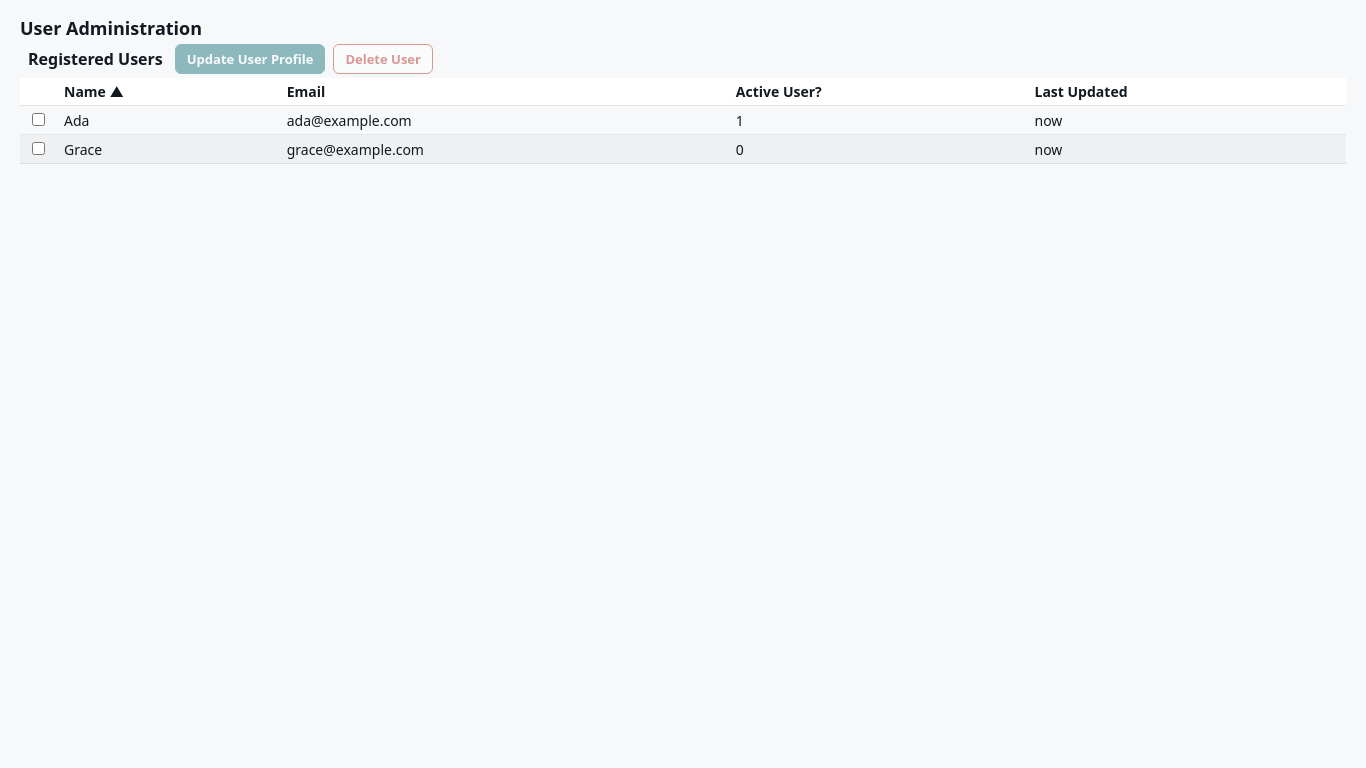
Scenario: the edit dialog › draws the roles table inside the dialog
Expected: the text "ada@example.com" is shown, left=279, top=106, right=728, bottom=134
Click the checkbox named "Select row 1": (38, 120) left=32, top=113, right=45, bottom=126
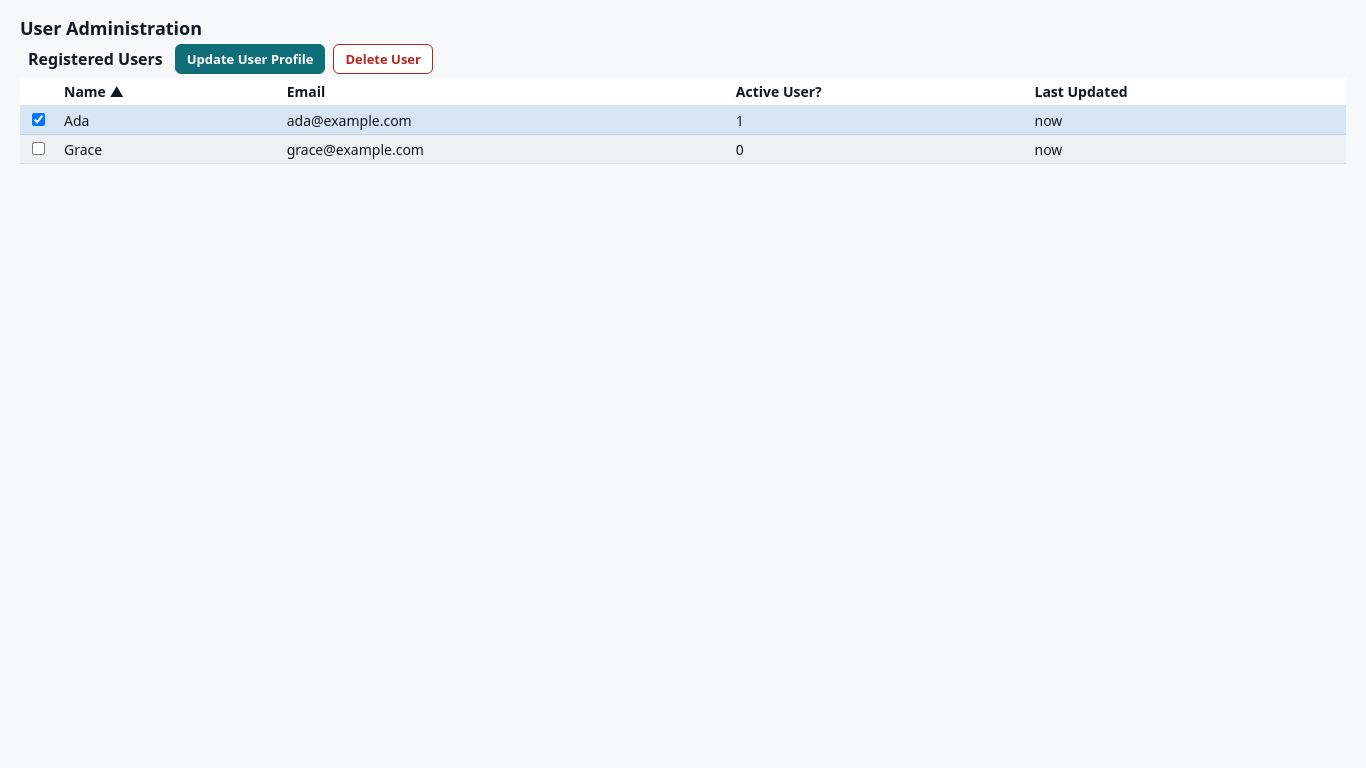
Now the checkbox named "Select row 1" is checked, box left=32, top=113, right=45, bottom=126
Now the button "Update User Profile" is enabled
Click the button "Update User Profile": (250, 59) left=175, top=44, right=325, bottom=74
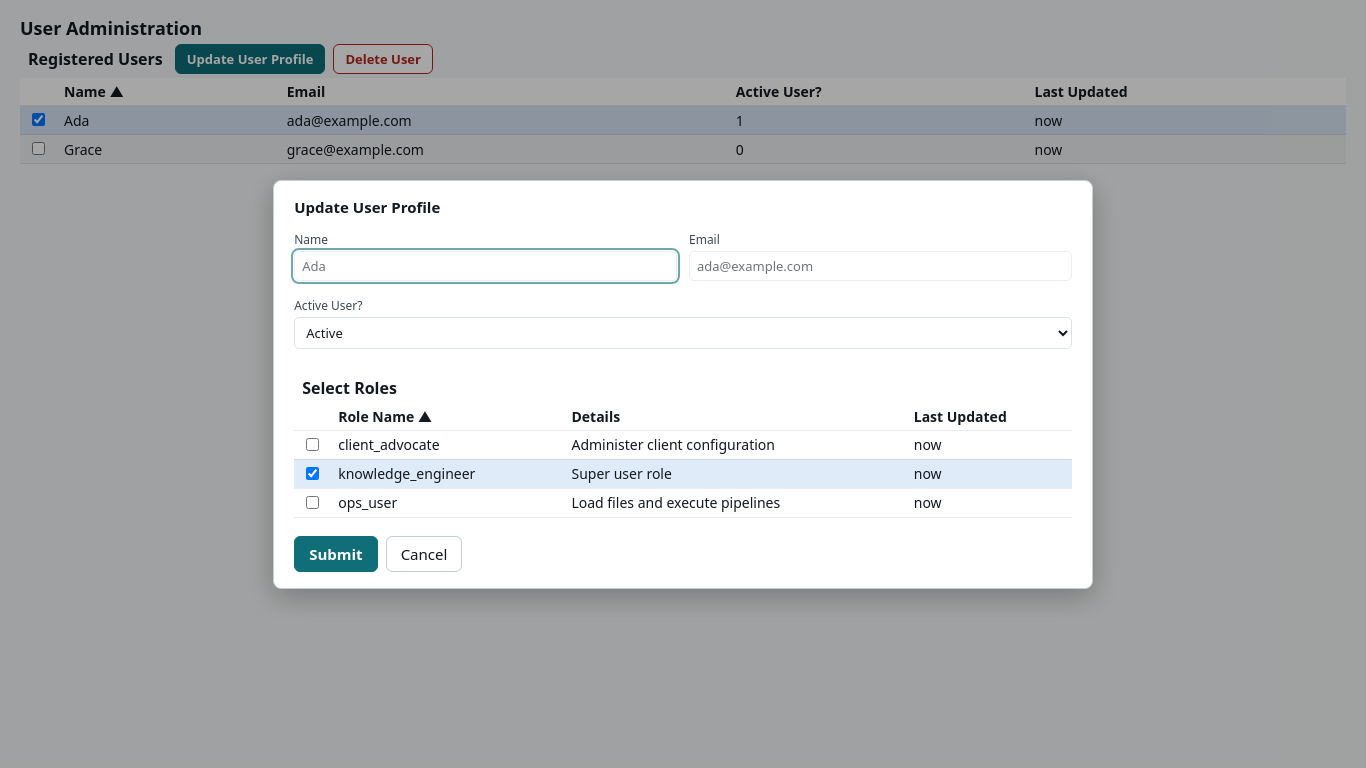
Now the text "knowledge_engineer" is shown, box left=330, top=459, right=564, bottom=488
